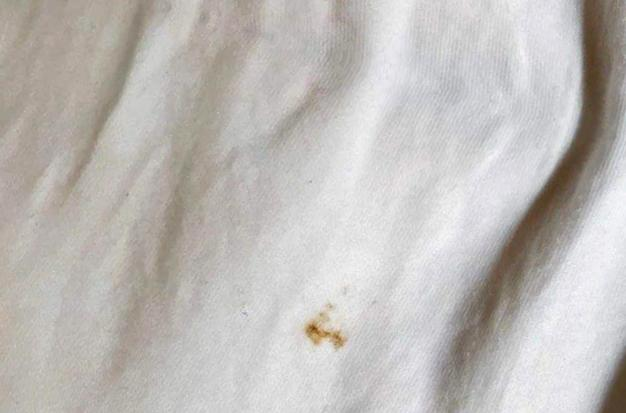stain: (303, 295, 356, 354)
